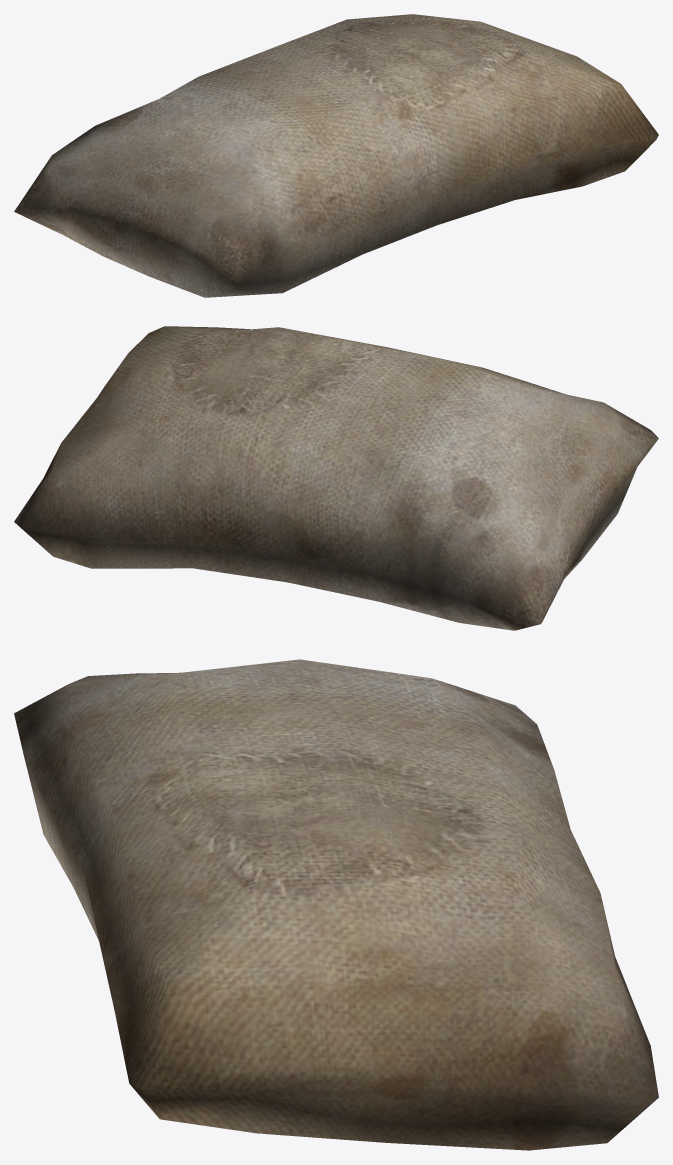
The model's file is SandBag.fbx.
3 views of the same model, one above another, from view 1: azimuth 30°, elevation 25°; view 2: azimuth 150°, elevation 25°; view 3: azimuth 270°, elevation 25° (orthographic). The views are drawn at different scales.
Parts seen in each view (by area): view 1: mesh_0.1930; view 2: mesh_0.1930; view 3: mesh_0.1930.
Boxes of the visible parts, x1,y1,x2,y2 form: mesh_0.1930: (14, 14, 658, 297); mesh_0.1930: (14, 326, 658, 630); mesh_0.1930: (14, 659, 658, 1150).
Bounding box in the file's own units: 1.01 × 0.3076 × 0.6958.
